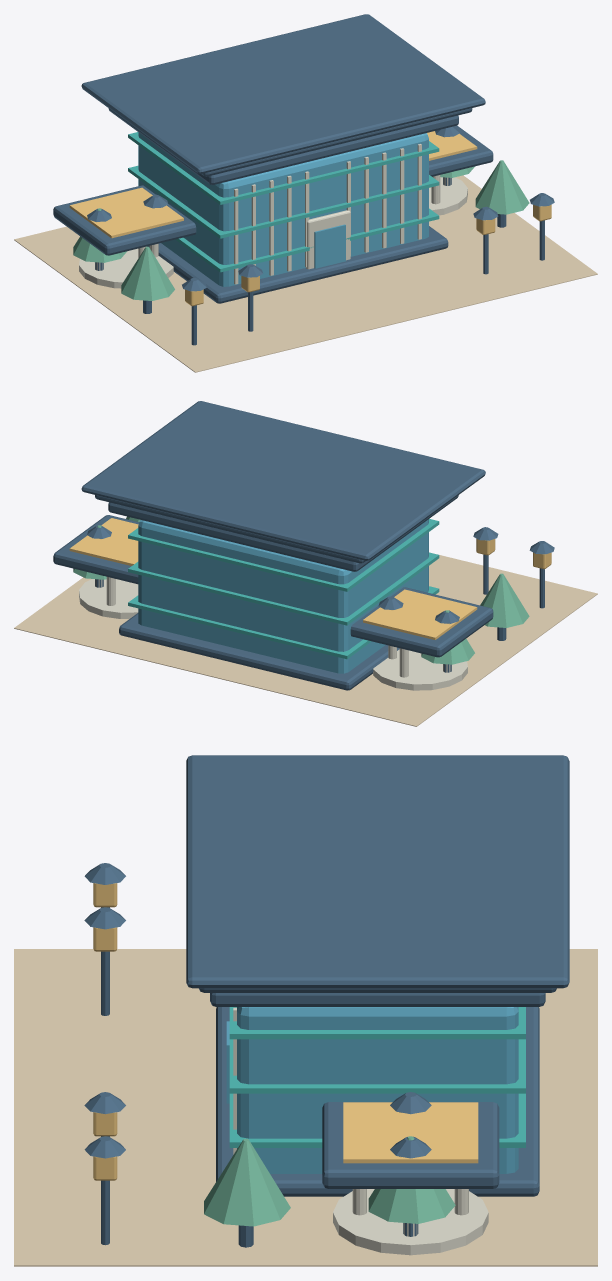
The model's file is campus.glb.
3 renders of one model, top to bottom at view 1: azimuth 30°, elevation 25°; view 2: azimuth 150°, elevation 25°; view 3: azimuth 270°, elevation 25°, orthographic. The views are drawn at different scales.
Visible parts, largest first — view 1: Batched Deep ink roof details, Courtyard plaza, Developer Metropolis Hall, Batched Pearl limestone details, Batched Jade trim details, Batched Lantern brass details, Batched Garden canopy details, Main entrance glass; view 2: Batched Deep ink roof details, Developer Metropolis Hall, Courtyard plaza, Batched Jade trim details, Batched Lantern brass details, Batched Pearl limestone details, Batched Garden canopy details; view 3: Batched Deep ink roof details, Courtyard plaza, Developer Metropolis Hall, Batched Lantern brass details, Batched Jade trim details, Batched Garden canopy details, Batched Pearl limestone details.
Boxes of the visible parts, left/top/right/bottom form: Batched Deep ink roof details: left=53, top=14, right=554, bottom=345; Courtyard plaza: left=14, top=175, right=597, bottom=372; Developer Metropolis Hall: left=138, top=132, right=428, bottom=286; Batched Pearl limestone details: left=79, top=144, right=467, bottom=288; Batched Jade trim details: left=128, top=132, right=439, bottom=272; Batched Lantern brass details: left=69, top=131, right=551, bottom=306; Batched Garden canopy details: left=73, top=160, right=529, bottom=300; Main entrance glass: left=314, top=224, right=345, bottom=268; Batched Deep ink roof details: left=53, top=401, right=554, bottom=690; Developer Metropolis Hall: left=138, top=519, right=428, bottom=673; Courtyard plaza: left=14, top=555, right=597, bottom=726; Batched Jade trim details: left=128, top=519, right=439, bottom=659; Batched Lantern brass details: left=69, top=518, right=551, bottom=639; Batched Pearl limestone details: left=79, top=577, right=467, bottom=690; Batched Garden canopy details: left=73, top=516, right=529, bottom=664; Batched Deep ink roof details: left=84, top=755, right=569, bottom=1247; Courtyard plaza: left=14, top=949, right=597, bottom=1266; Developer Metropolis Hall: left=237, top=1007, right=518, bottom=1173; Batched Lantern brass details: left=93, top=883, right=478, bottom=1180; Batched Jade trim details: left=229, top=1007, right=525, bottom=1147; Batched Garden canopy details: left=204, top=1136, right=455, bottom=1226; Batched Pearl limestone details: left=233, top=1007, right=488, bottom=1255.
Bounding box in the file's own units: 250 × 89.5 × 195.
